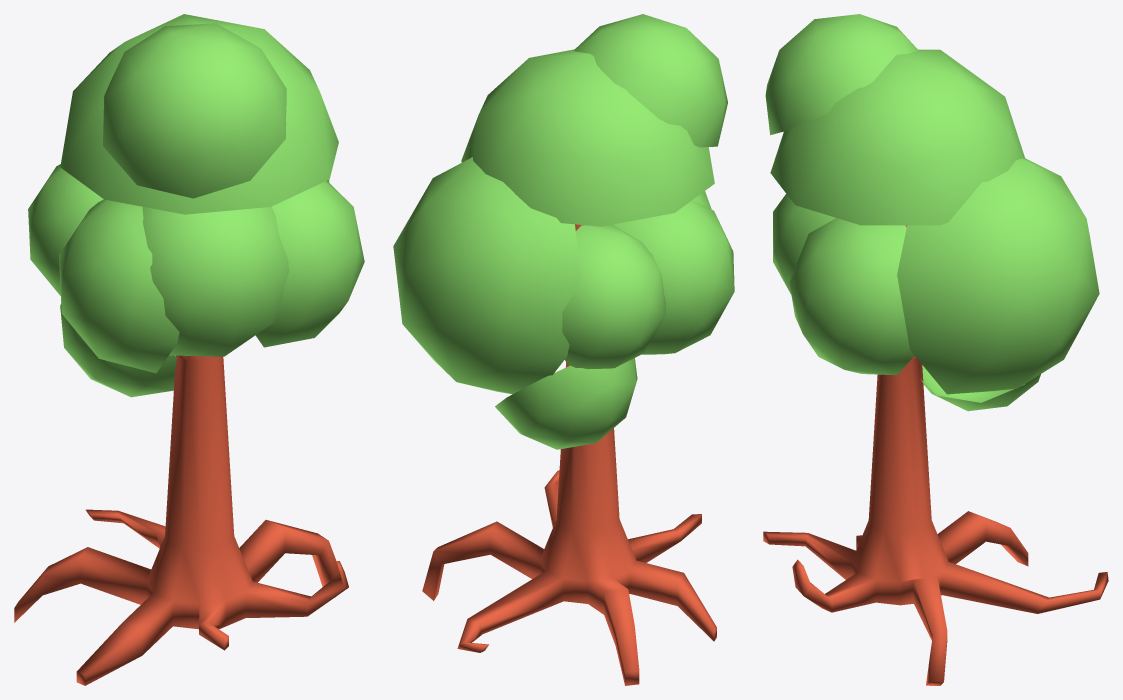
File: BigTreefbx.fbx
3 renders of one model, left to right at view 1: azimuth 30°, elevation 25°; view 2: azimuth 150°, elevation 25°; view 3: azimuth 270°, elevation 25°, orthographic. The views are drawn at different scales.
Parts seen in each view (by area): view 1: Цилиндр; view 2: Цилиндр; view 3: Цилиндр.
Part boxes in pixels (bbox=[...]): Цилиндр: bbox=[14, 14, 364, 685]; Цилиндр: bbox=[393, 14, 734, 685]; Цилиндр: bbox=[763, 14, 1108, 685].
Size of the model in its own units: 172 by 352 by 188.
